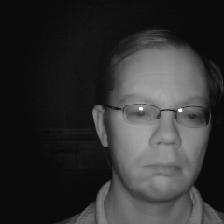sad: (80, 32, 224, 202)
